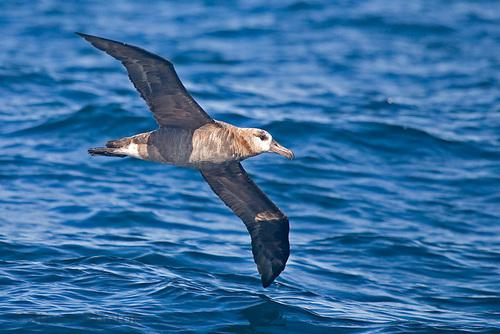001.Black_footed_Albatross: (73, 31, 294, 291)
